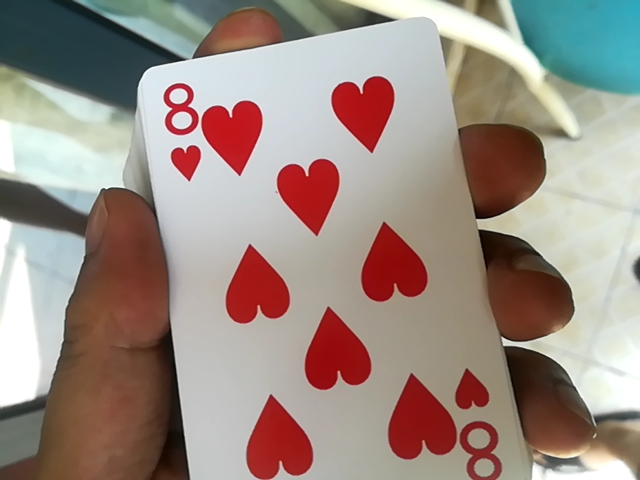hx 8: (142, 21, 562, 479)
